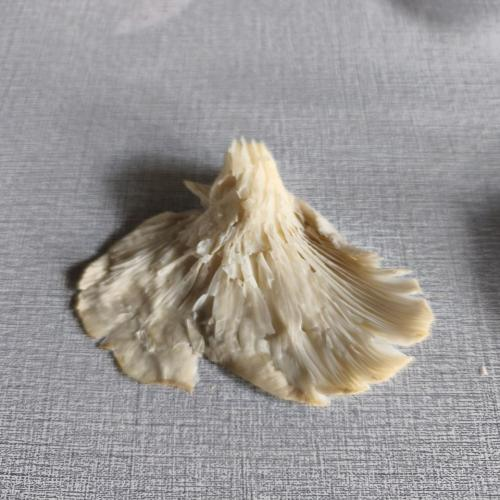Oyster Mushroom: (53, 111, 452, 500)
